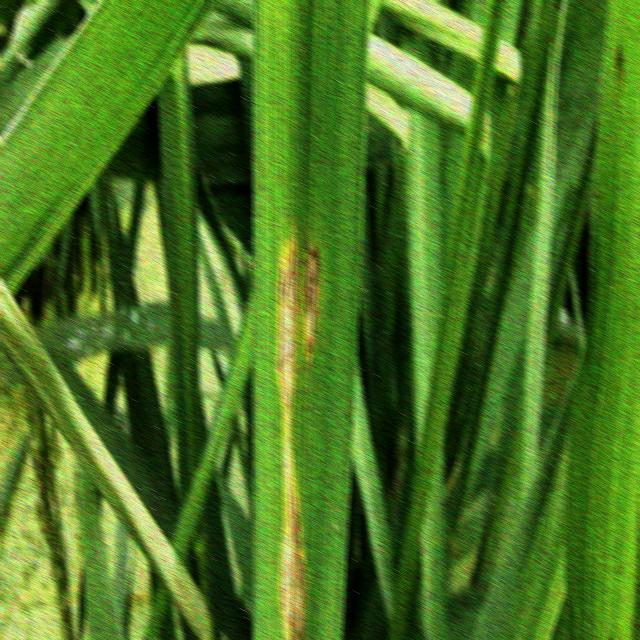LEAF BLAST: (276, 219, 307, 640), (303, 243, 321, 361)
